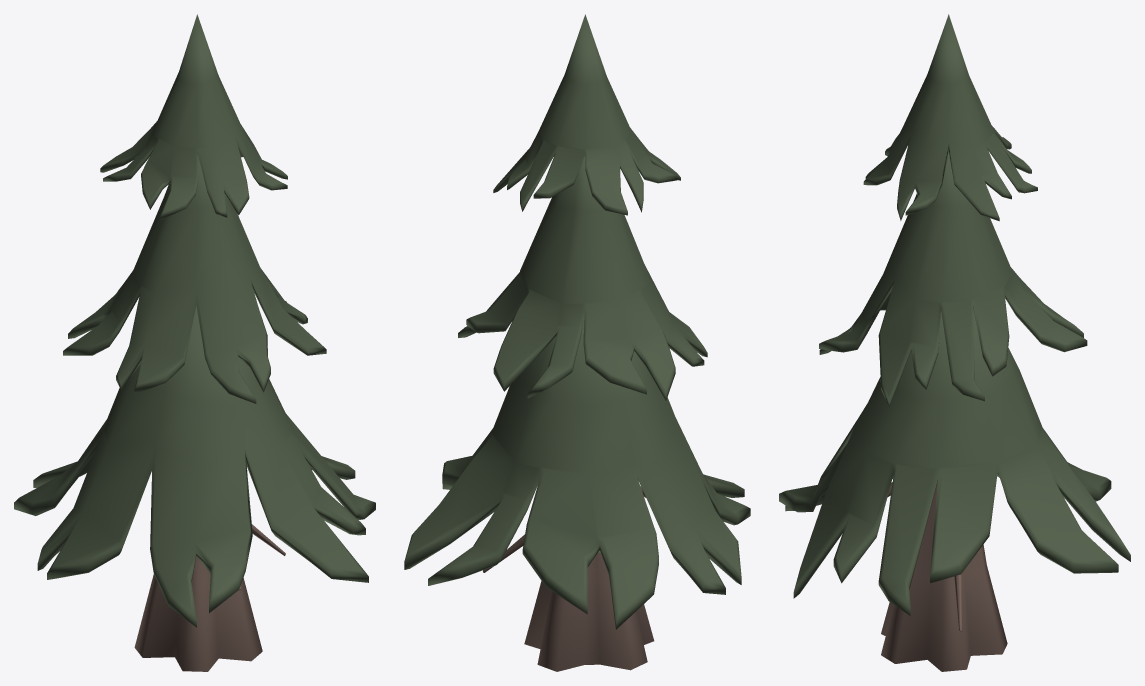
Rendered from boom.fbx.
3 views of the same model, side by side, from view 1: azimuth 30°, elevation 25°; view 2: azimuth 150°, elevation 25°; view 3: azimuth 270°, elevation 25° (orthographic).
Parts seen in each view (by area): view 1: pCylinder41; view 2: pCylinder41; view 3: pCylinder41.
Boxes of the visible parts, x1,y1,x2,y2 form: pCylinder41: (14,14,375,671); pCylinder41: (404,14,750,671); pCylinder41: (779,14,1130,671).
Size of the model in its own units: 3.2 by 6.15 by 3.1.
